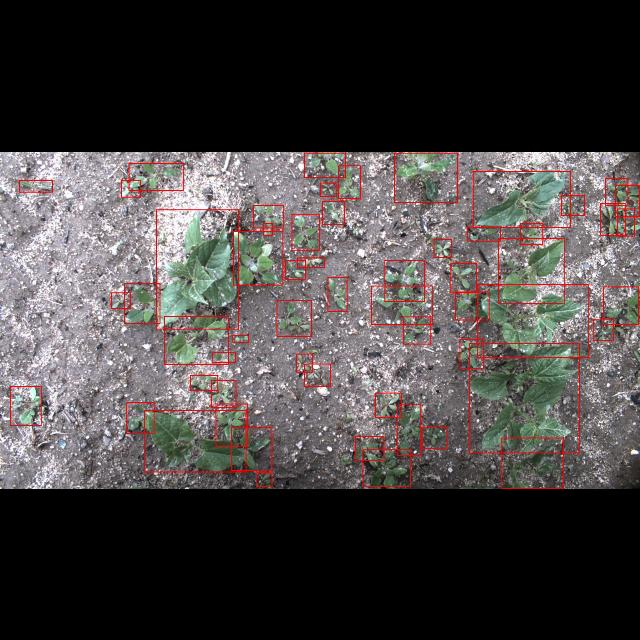crop: (469, 343, 579, 453), (156, 209, 238, 329), (478, 284, 588, 358), (144, 410, 246, 472), (474, 170, 570, 226), (498, 237, 564, 303), (164, 316, 228, 364), (502, 438, 562, 488)
weed: (394, 152, 458, 202), (233, 230, 283, 284), (372, 286, 432, 324), (363, 449, 411, 486), (230, 428, 272, 470), (385, 260, 425, 300), (129, 162, 183, 190), (124, 283, 160, 323), (216, 404, 248, 446), (276, 300, 312, 336), (604, 286, 638, 324), (397, 404, 421, 456), (10, 386, 42, 424), (304, 152, 346, 176), (292, 214, 320, 250), (455, 291, 489, 319), (126, 402, 154, 433), (600, 202, 626, 234), (403, 316, 431, 344), (451, 262, 477, 292), (615, 184, 639, 216), (339, 165, 361, 198), (460, 338, 484, 368), (254, 205, 284, 228), (375, 392, 401, 418), (356, 436, 384, 460), (212, 379, 236, 406), (328, 276, 347, 310), (606, 177, 628, 205), (304, 363, 330, 385), (422, 426, 446, 448), (322, 200, 344, 223), (520, 222, 542, 244), (467, 226, 501, 240), (190, 374, 218, 390), (618, 208, 634, 236), (562, 194, 584, 214), (594, 318, 614, 340), (20, 179, 52, 191), (285, 260, 305, 278), (434, 238, 452, 256), (122, 180, 140, 197), (112, 292, 130, 308), (296, 353, 312, 371), (298, 257, 324, 267), (212, 352, 235, 362), (256, 472, 272, 486), (320, 182, 336, 196), (233, 334, 249, 342), (264, 223, 272, 235)
